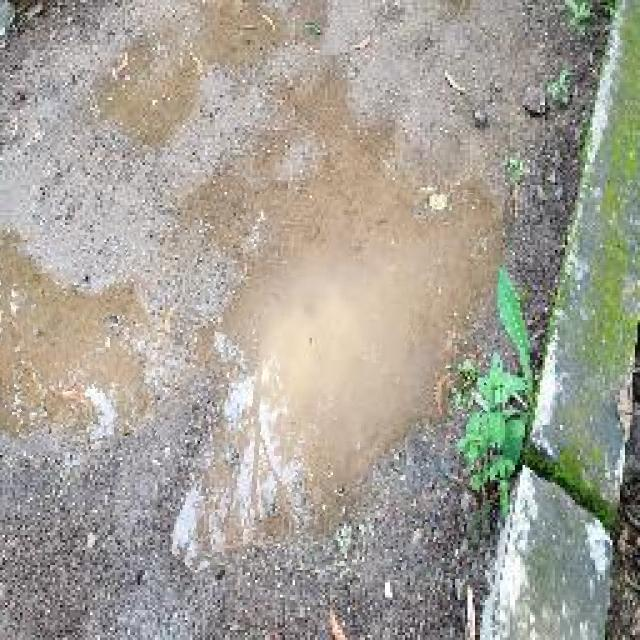puddle: (176, 180, 500, 576), (1, 234, 156, 456)
